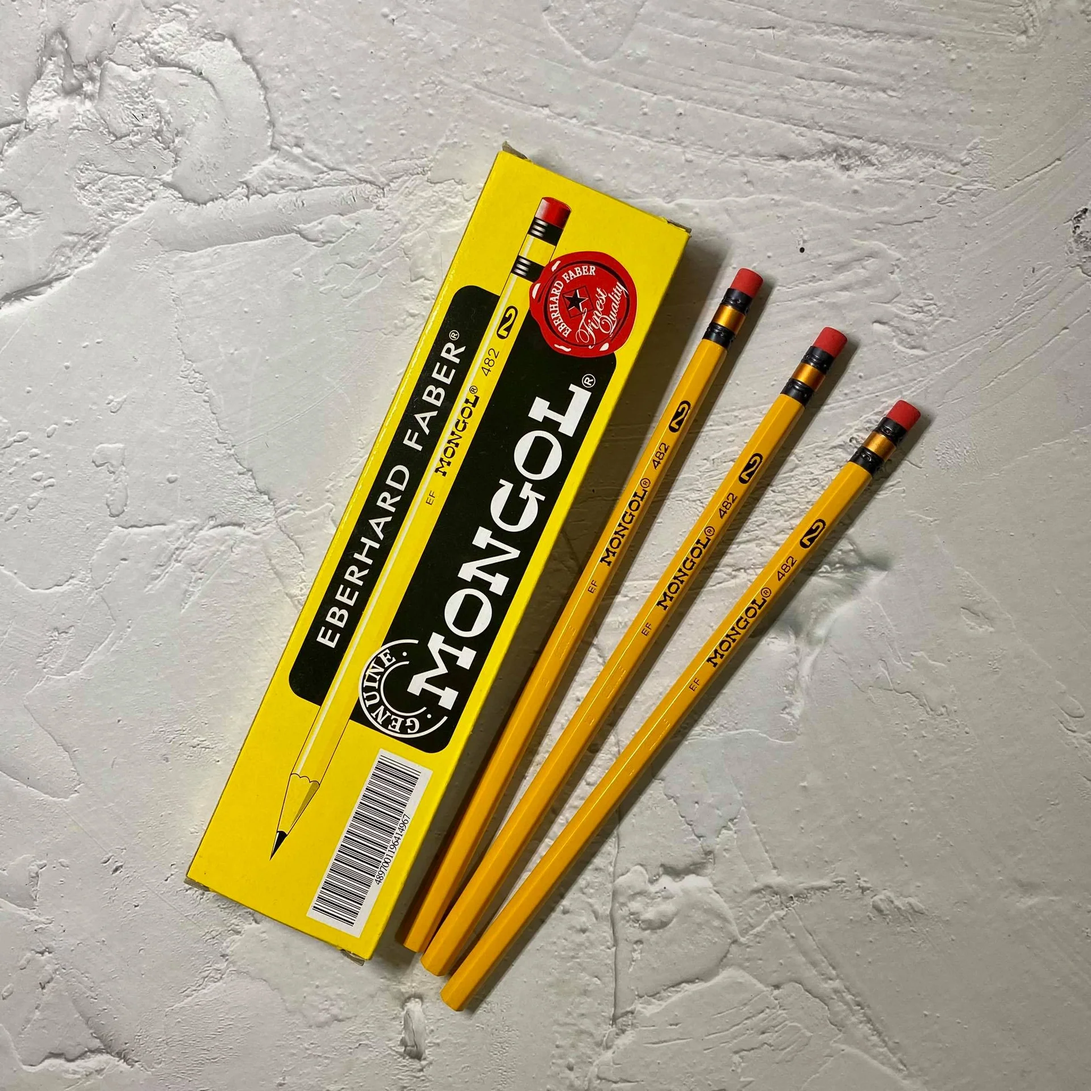non-toxic_waste: (515, 154, 728, 940), (906, 392, 955, 1091), (828, 343, 874, 1075), (739, 275, 773, 1018)
